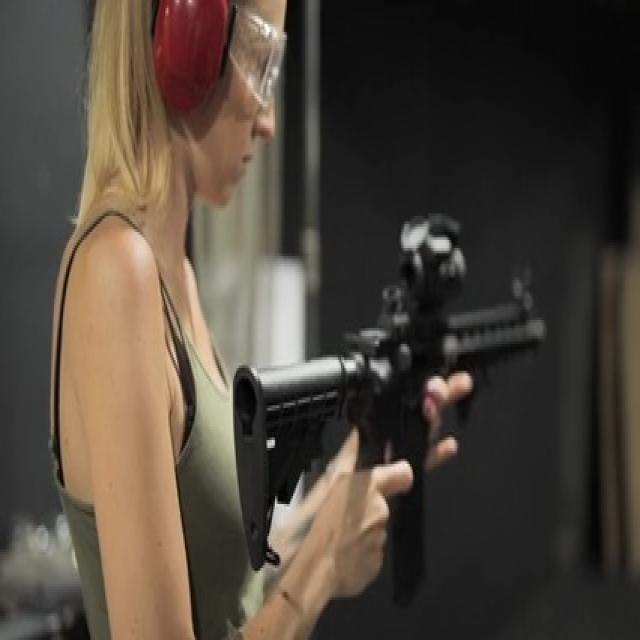Gun_Holder: (207, 210, 584, 640)
Person: (43, 0, 390, 640)
